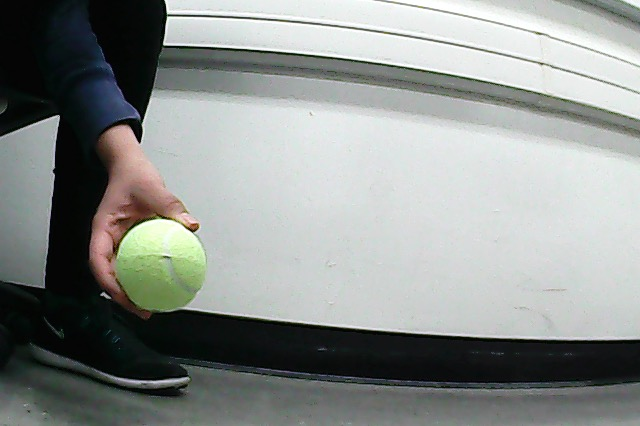ball: (112, 220, 209, 315)
